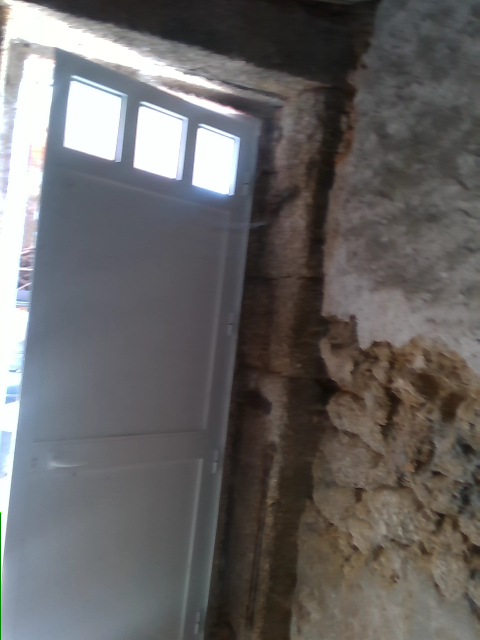closed: (0, 41, 265, 639)
